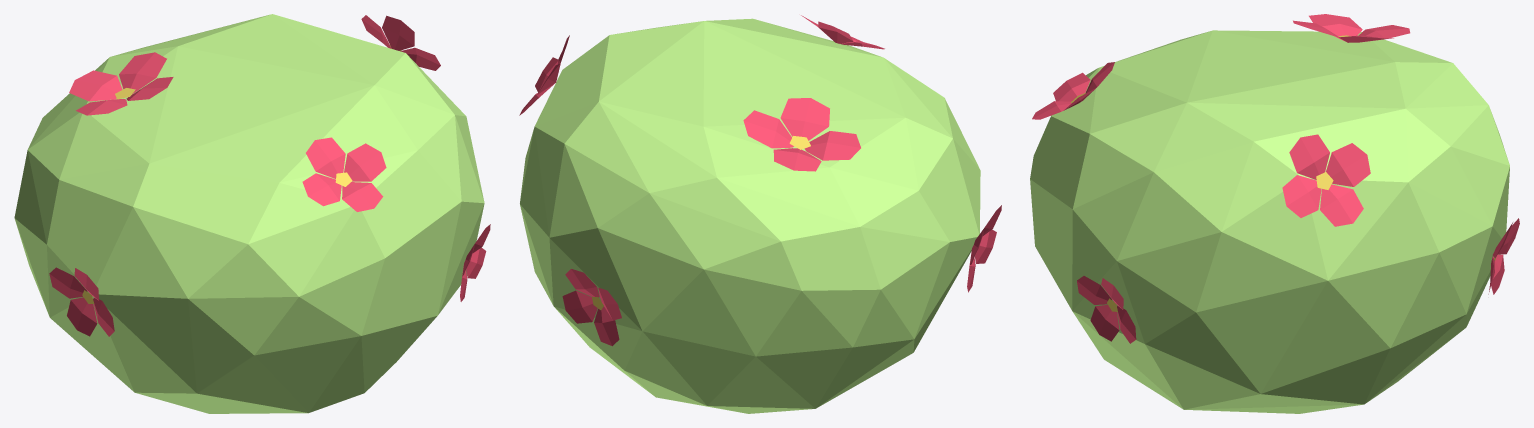
The model's file is FlowerBush_f_m_03.fbx.
3 views of the same model, side by side, from view 1: azimuth 30°, elevation 25°; view 2: azimuth 150°, elevation 25°; view 3: azimuth 270°, elevation 25° (orthographic). The views are drawn at different scales.
Parts seen in each view (by area): view 1: FlowerBush_f_m_03; view 2: FlowerBush_f_m_03; view 3: FlowerBush_f_m_03.
Boxes of the visible parts, bbox=[...] form: FlowerBush_f_m_03: bbox=[14, 14, 490, 413]; FlowerBush_f_m_03: bbox=[519, 15, 1001, 413]; FlowerBush_f_m_03: bbox=[1030, 14, 1519, 413].
Bounding box in the file's own units: 160 × 119 × 155.
